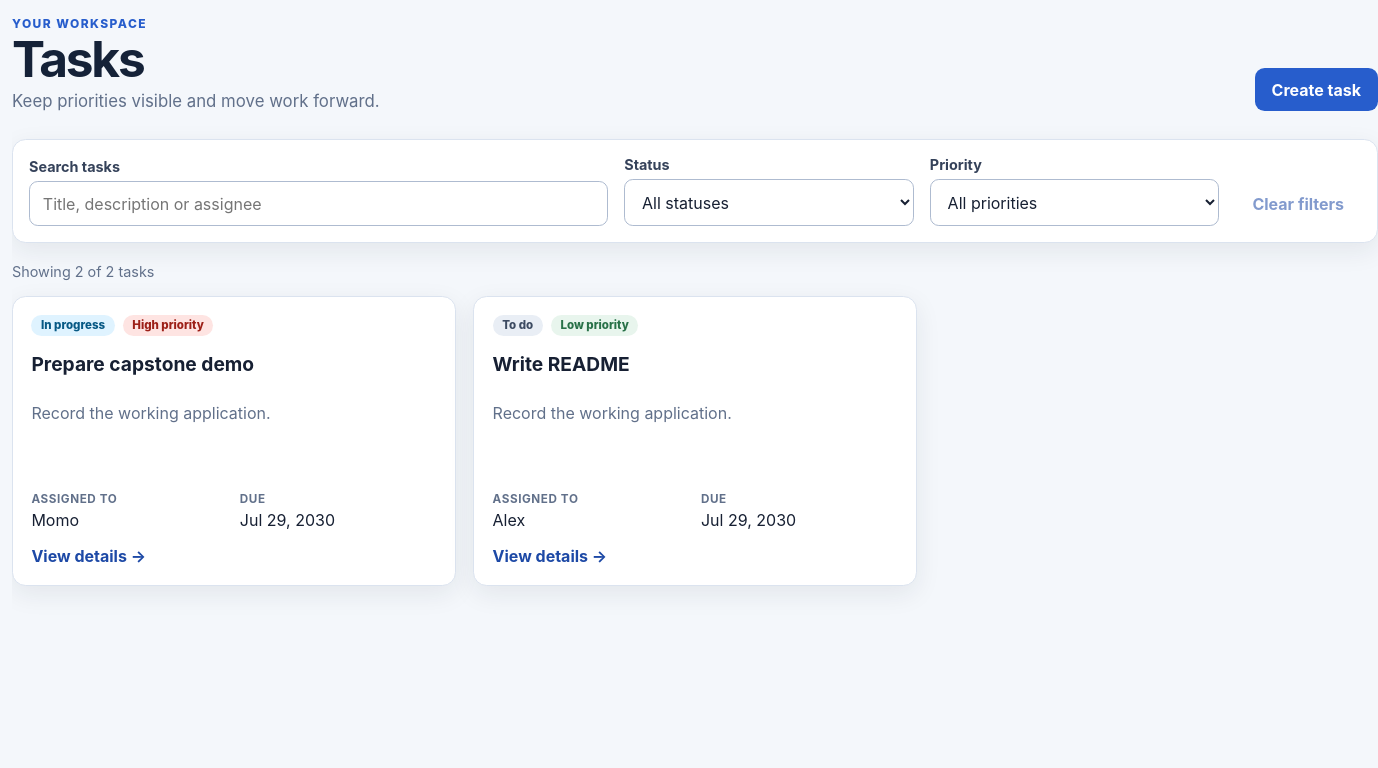
Test case: TaskListPage › loads tasks and filters them through URL-backed controls
Expected: the link "Prepare capstone demo" is shown, [31,352,254,376]
Type "README" into the search field labelled "Search tasks".
click(319, 204); type("README")  # box [29,181,608,226]
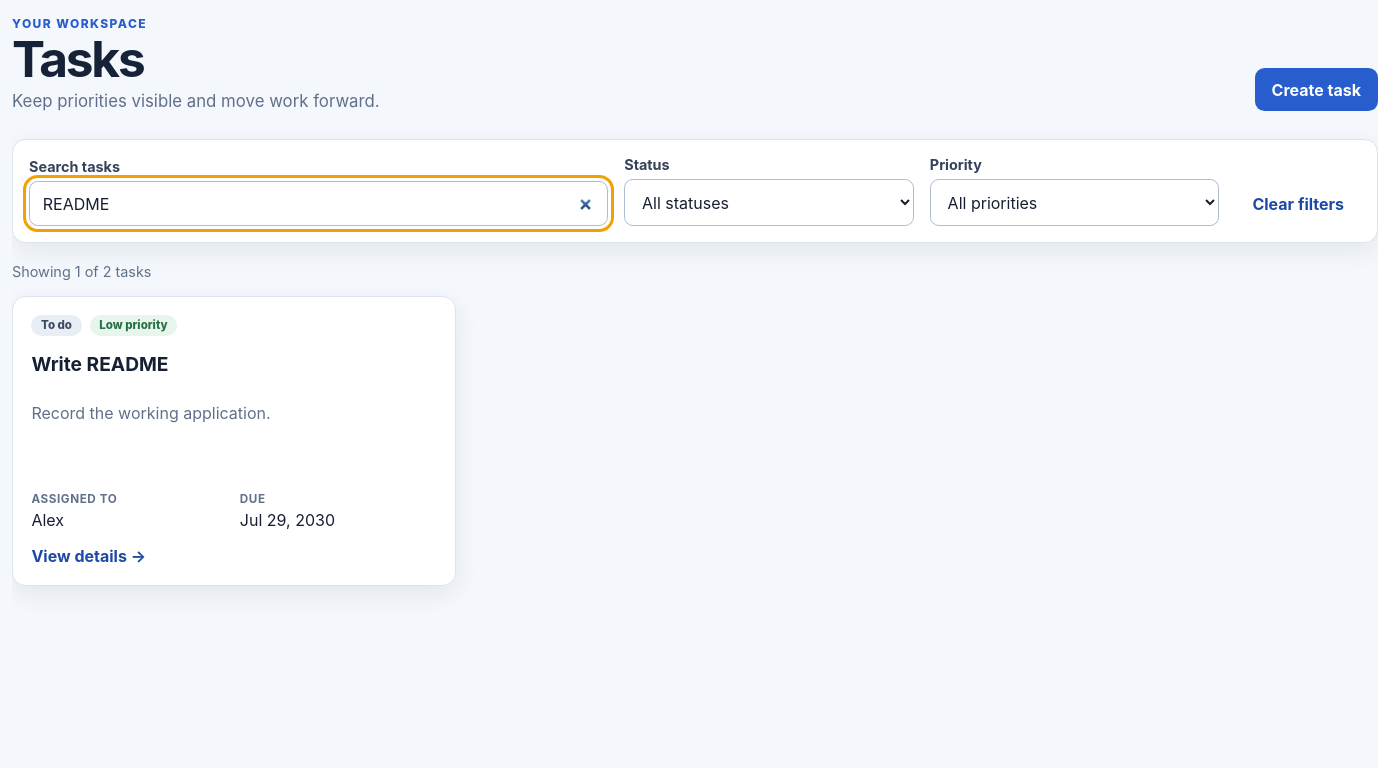
Expected: the link "Write README" is shown, [31,352,168,376]
Expected: the link "Prepare capstone demo" is gone
Expected: the text "Showing 1 of 2 tasks" is shown, [12,263,152,280]
